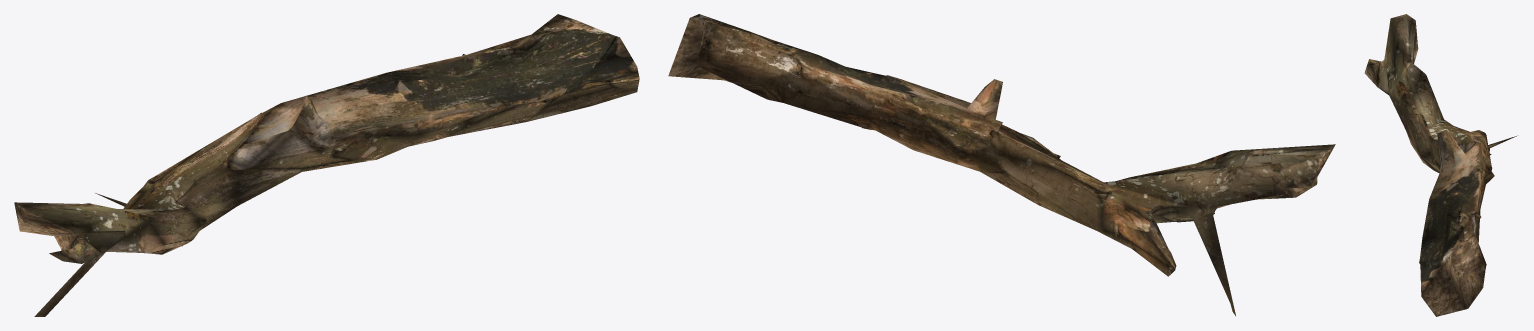
File: dead_tree_trunk_02_lod1.glb
The picture shows the model from 3 angles, left to right: view 1: azimuth 30°, elevation 25°; view 2: azimuth 150°, elevation 25°; view 3: azimuth 270°, elevation 25°; orthographic projection. The views are drawn at different scales.
Visible parts, largest first — view 1: dead_tree_trunk_02; view 2: dead_tree_trunk_02; view 3: dead_tree_trunk_02.
Part boxes in pixels (x1,y1,x2,y2): dead_tree_trunk_02: (14,14,639,316); dead_tree_trunk_02: (668,14,1335,315); dead_tree_trunk_02: (1364,14,1517,316).
Size of the model in its own units: 4.03 by 1.03 by 1.04.
Materials: 1 (1 with a texture image).
